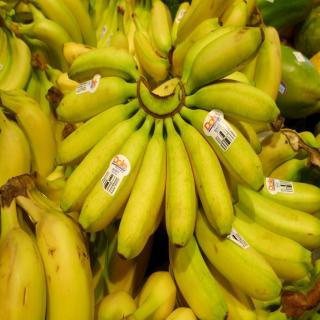Banana: (0, 0, 320, 320), (175, 114, 233, 238)
